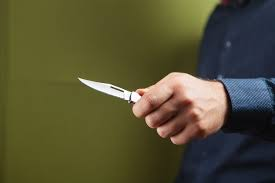knife: (73, 74, 147, 112)
